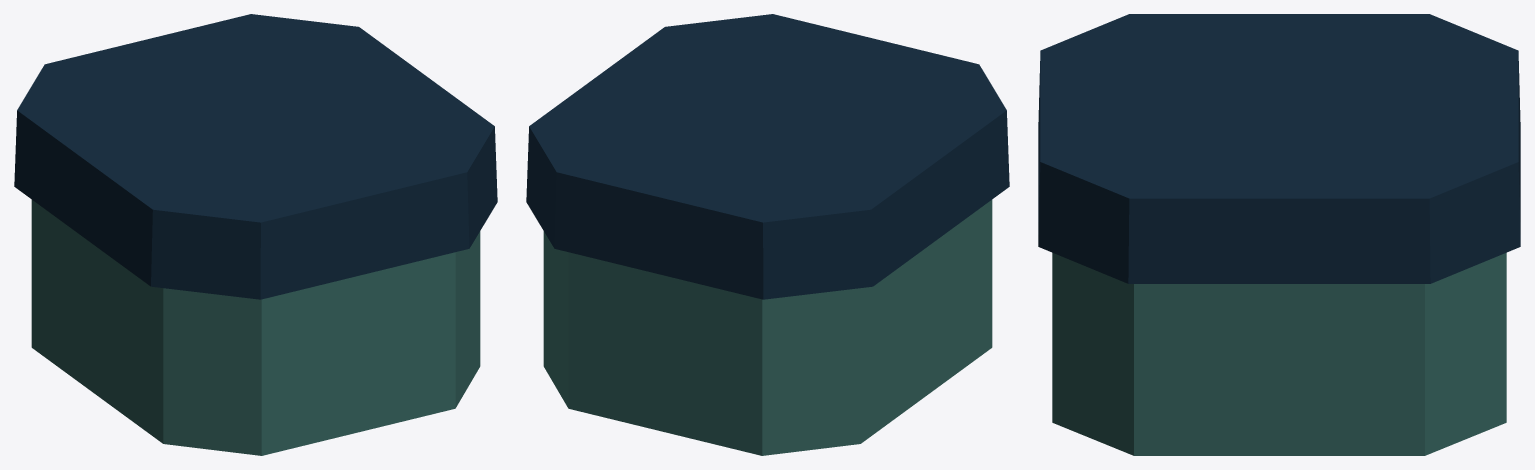
File: Tupperware_02.fbx
The picture shows the model from 3 angles, left to right: view 1: azimuth 30°, elevation 25°; view 2: azimuth 150°, elevation 25°; view 3: azimuth 270°, elevation 25°; orthographic projection. The views are drawn at different scales.
Parts seen in each view (by area): view 1: Tupperware_02; view 2: Tupperware_02; view 3: Tupperware_02.
Boxes of the visible parts, box(x1,y1,x2,y2) form: Tupperware_02: box(14, 14, 497, 455); Tupperware_02: box(526, 14, 1009, 455); Tupperware_02: box(1038, 14, 1520, 455).
Size of the model in its own units: 16.24 by 10.69 by 17.71.
